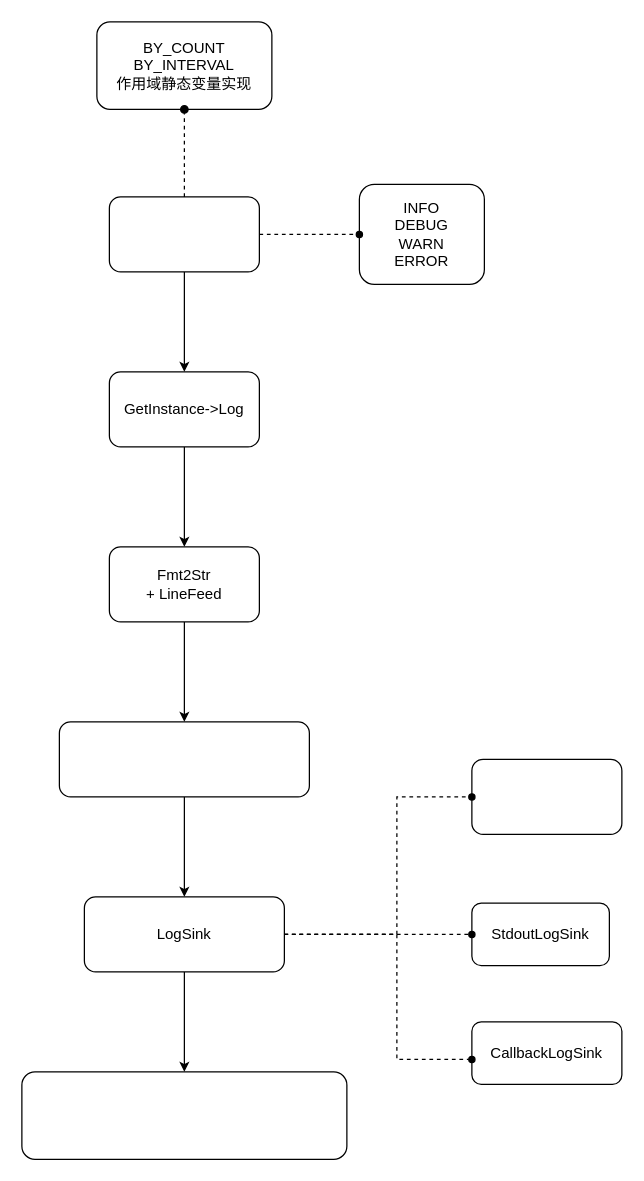
This 644x1181 diagram has some shape labels left out. Each missing label, with the centre of its shape:
"#define LOG" goes at point (183, 234).
"RotatedFileLogSink" goes at point (546, 796).
"SyncLogger (shared_lock) or ASyncLogger (ConcurrentQueue)" goes at point (183, 759).
"Write: prefix, frontBracket, tag, rearBracket, msg" goes at point (184, 1115).
